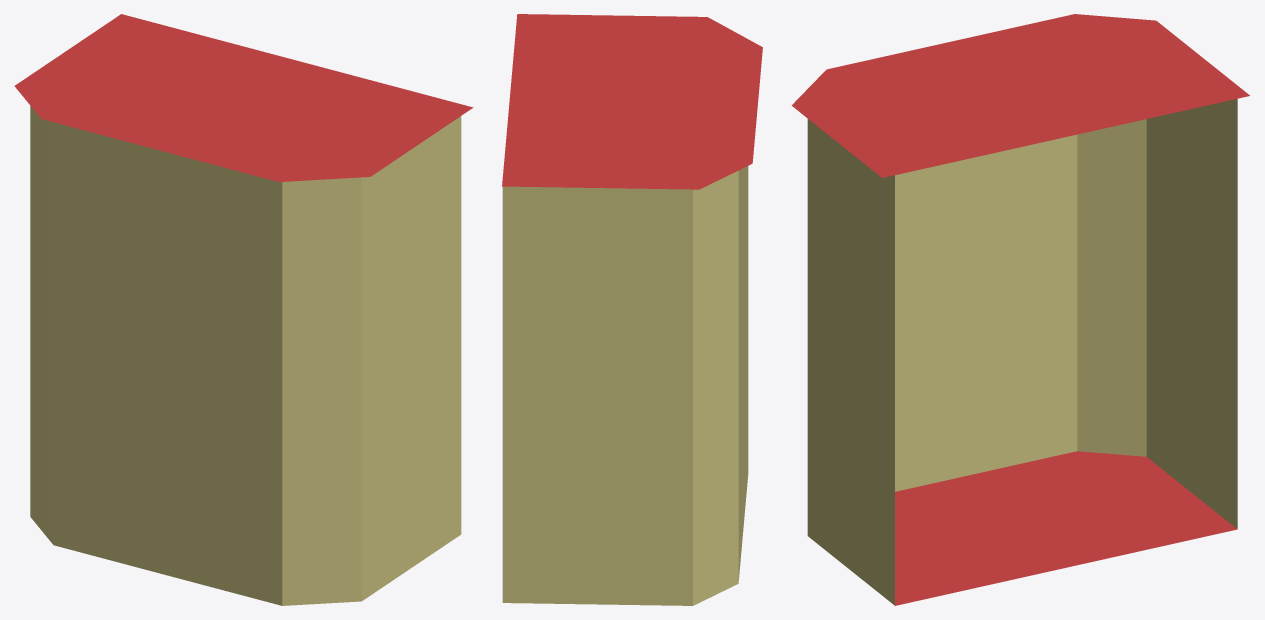
The picture shows the model from 3 angles, left to right: view 1: azimuth 30°, elevation 25°; view 2: azimuth 150°, elevation 25°; view 3: azimuth 270°, elevation 25°; orthographic projection.
Bounding box in the file's own units: 6.65 × 7.86 × 8.14.
